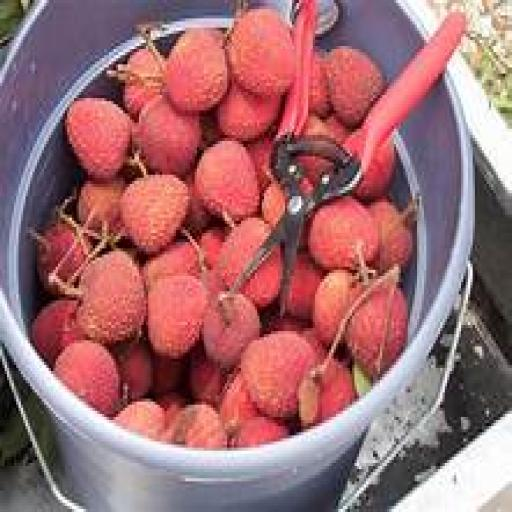lychee: (241, 332, 315, 420), (77, 249, 145, 343), (228, 10, 294, 98), (346, 286, 407, 380), (165, 28, 229, 113), (65, 99, 132, 180), (121, 175, 189, 254), (135, 96, 201, 177), (195, 138, 259, 220), (309, 197, 379, 269), (54, 341, 120, 416), (325, 46, 384, 128), (149, 276, 208, 358), (202, 295, 261, 367), (299, 359, 356, 426), (38, 221, 90, 294), (218, 218, 271, 288), (313, 270, 361, 346), (218, 83, 280, 141), (31, 298, 81, 367), (369, 200, 414, 272), (142, 240, 199, 288), (123, 50, 162, 119), (77, 178, 125, 233), (355, 138, 396, 199), (318, 359, 356, 423), (170, 405, 227, 447), (285, 255, 322, 318), (221, 375, 259, 435), (116, 341, 152, 401), (114, 399, 164, 441), (188, 350, 224, 407), (232, 417, 289, 447), (184, 175, 210, 236), (246, 135, 273, 190), (151, 353, 185, 395), (309, 53, 331, 116), (304, 117, 347, 144), (262, 181, 287, 226), (156, 393, 185, 429), (200, 227, 224, 269), (265, 313, 308, 334), (302, 329, 326, 364)
